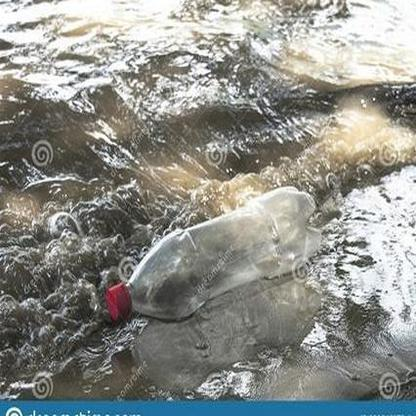plastic bottle: (106, 186, 320, 319)
